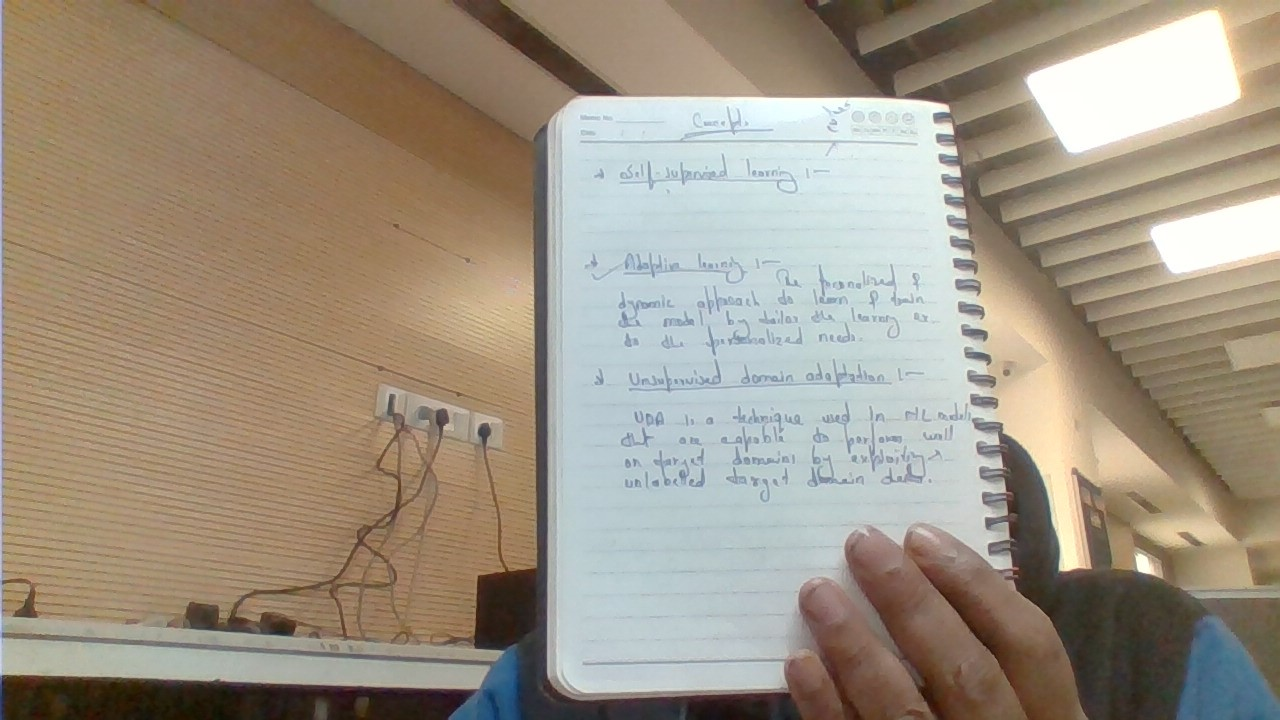notebook: (534, 89, 1020, 699)
